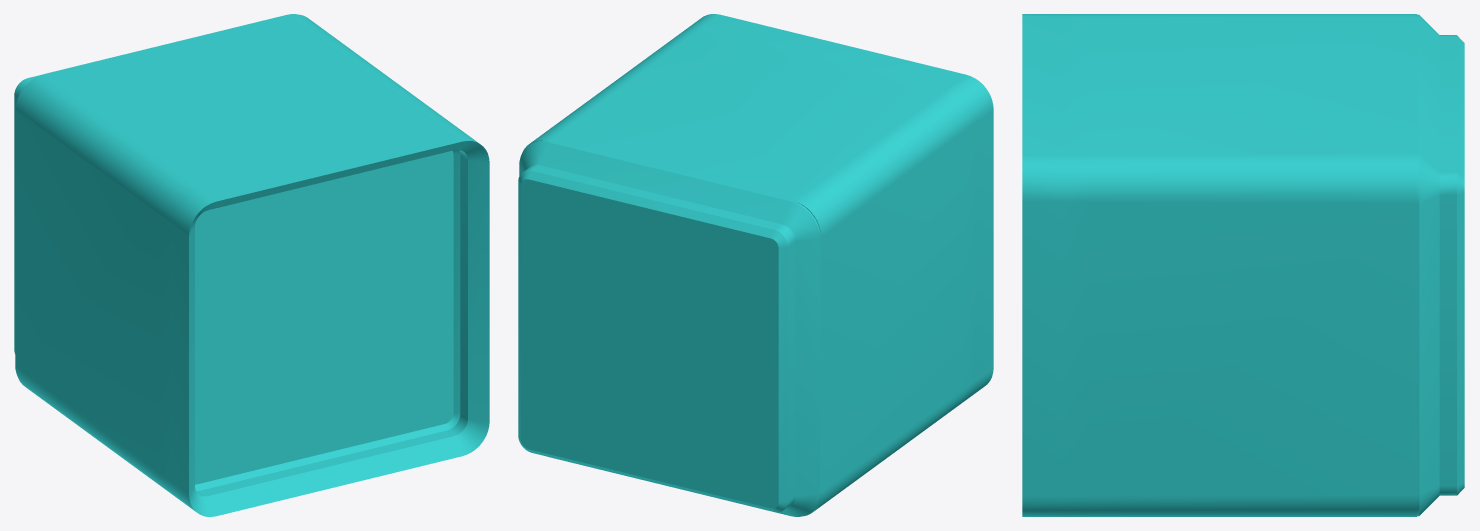
The model's file is solid-1x1x6-block.glb.
3 views of the same model, side by side, from view 1: azimuth 30°, elevation 25°; view 2: azimuth 150°, elevation 25°; view 3: azimuth 270°, elevation 25° (orthographic). The views are drawn at different scales.
Size of the model in its own units: 41.5 by 41.5 by 46.4.
